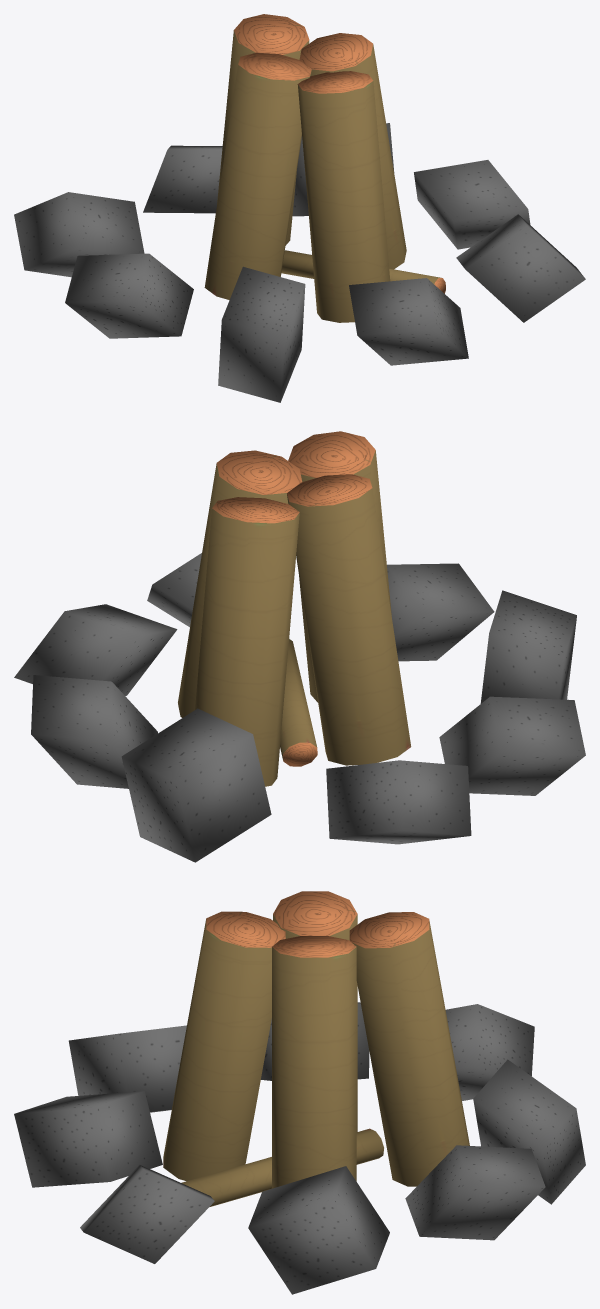
The model's file is Campfire.glb.
The picture shows the model from 3 angles, top to bottom: view 1: azimuth 30°, elevation 25°; view 2: azimuth 150°, elevation 25°; view 3: azimuth 270°, elevation 25°; orthographic projection. The views are drawn at different scales.
Visible parts, largest first — view 1: Cube; view 2: Cube; view 3: Cube.
Boxes of the visible parts, x1,y1,x2,y2 form: Cube: (14,14,585,402); Cube: (14,431,585,862); Cube: (14,891,585,1294).
Bounding box in the file's own units: 4.02 × 2.03 × 3.89.
1 material, 1 textured.
